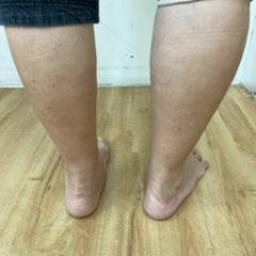Back View -Both Feet-: (40, 121, 221, 228)
